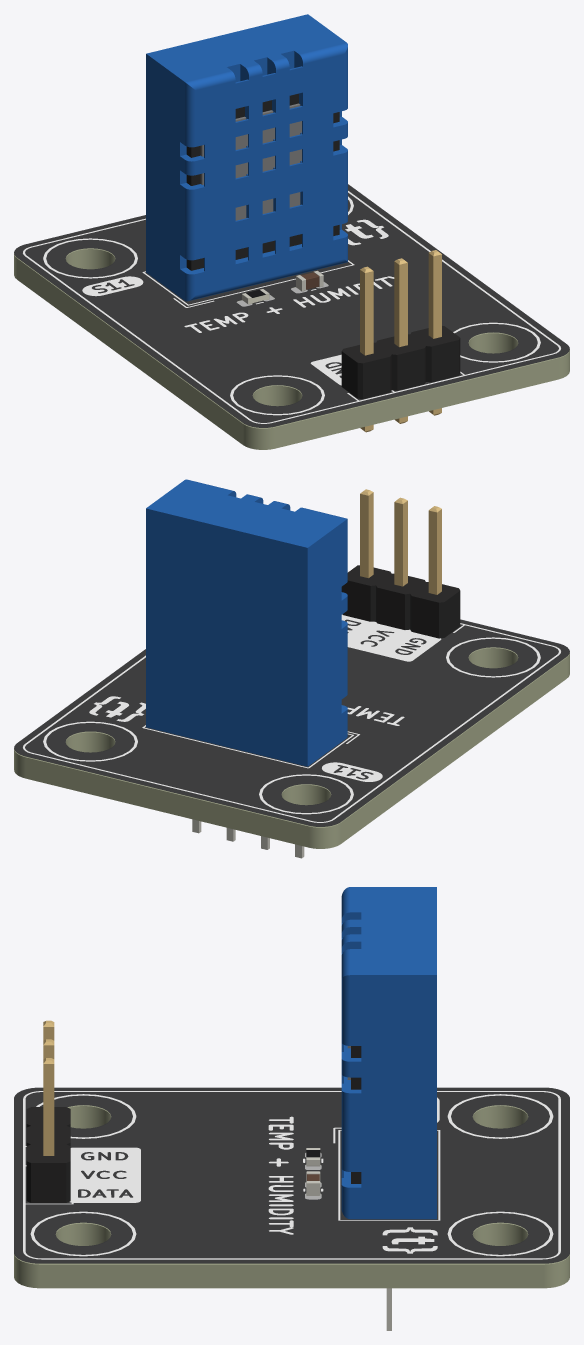
3 renders of one model, top to bottom at view 1: azimuth 30°, elevation 25°; view 2: azimuth 150°, elevation 25°; view 3: azimuth 270°, elevation 25°, orthographic. The views are drawn at different scales.
Visible parts, largest first — view 1: U1, =>[0:1:1:9], =>[0:1:1:11], J1, =>[0:1:1:7]; view 2: U1, =>[0:1:1:9], =>[0:1:1:11], J1, =>[0:1:1:7]; view 3: =>[0:1:1:9], U1, =>[0:1:1:11], =>[0:1:1:7], J1.
Boxes of the visible parts, x1=… form: U1: x1=146, y1=14, x2=347, y2=301; =>[0:1:1:9]: x1=14, y1=184, x2=569, y2=427; =>[0:1:1:11]: x1=14, y1=248, x2=569, y2=449; J1: x1=341, y1=250, x2=460, y2=432; =>[0:1:1:7]: x1=23, y1=191, x2=560, y2=423; U1: x1=146, y1=479, x2=347, y2=858; =>[0:1:1:9]: x1=14, y1=619, x2=569, y2=826; =>[0:1:1:11]: x1=14, y1=647, x2=569, y2=848; J1: x1=341, y1=489, x2=460, y2=638; =>[0:1:1:7]: x1=23, y1=614, x2=560, y2=822; =>[0:1:1:9]: x1=14, y1=1087, x2=569, y2=1263; U1: x1=341, y1=887, x2=436, y2=1330; =>[0:1:1:11]: x1=14, y1=1105, x2=569, y2=1288; =>[0:1:1:7]: x1=23, y1=1091, x2=560, y2=1259; J1: x1=26, y1=1020, x2=70, y2=1202.
Bounding box in the file's own units: 0.024 × 0.0235 × 0.032.
